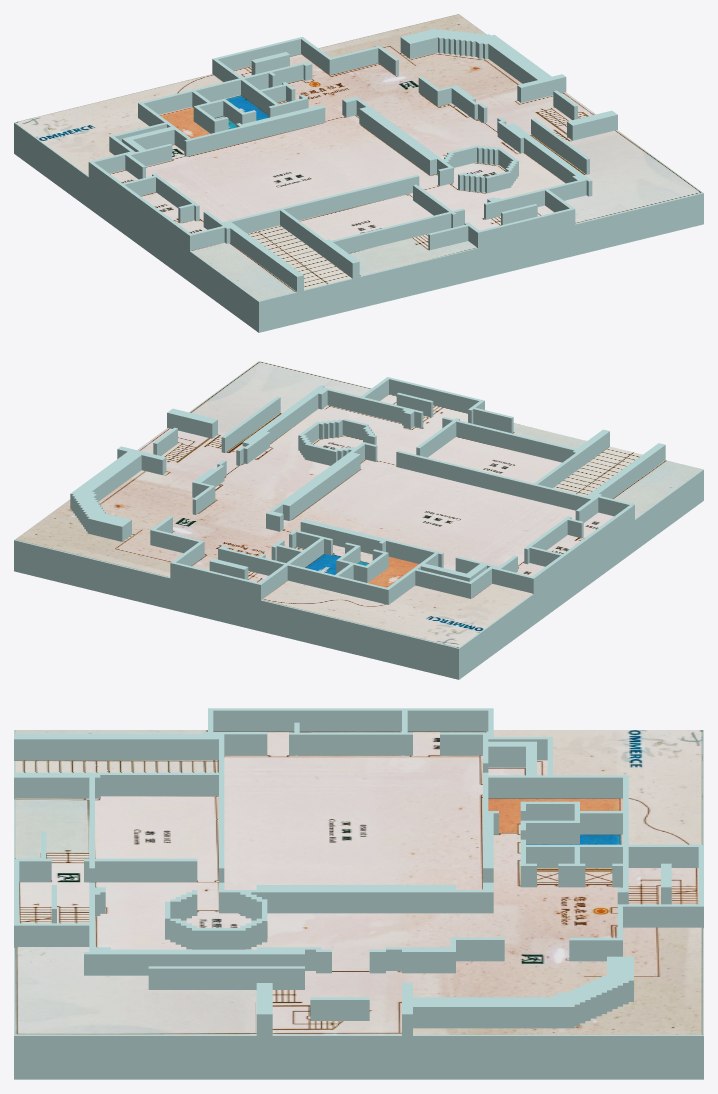
Rendered from Yi-Xian-1F-cube.glb.
The picture shows the model from 3 angles, top to bottom: view 1: azimuth 30°, elevation 25°; view 2: azimuth 150°, elevation 25°; view 3: azimuth 270°, elevation 25°; orthographic projection. The views are drawn at different scales.
Visible parts, largest first — view 1: Cube, Plane; view 2: Cube, Plane; view 3: Plane, Cube.
Part boxes in pixels (box(x1,y1,x2,y2)): Cube: box(14, 14, 703, 332); Plane: box(15, 14, 702, 300); Cube: box(14, 361, 703, 679); Plane: box(15, 361, 702, 647); Plane: box(15, 730, 702, 1034); Cube: box(14, 708, 703, 1079).
Size of the model in its own units: 30 by 3 by 28.58.
Materials: 2 (1 with a texture image).
